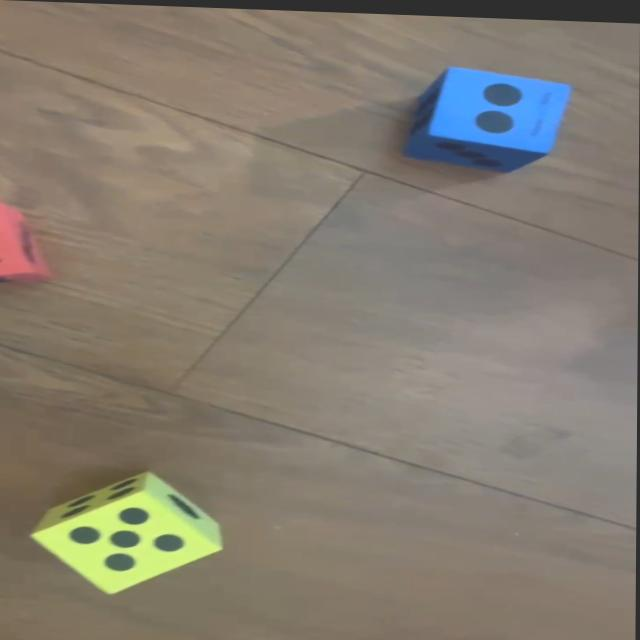cube: (413, 64, 569, 169), (0, 205, 53, 287)
